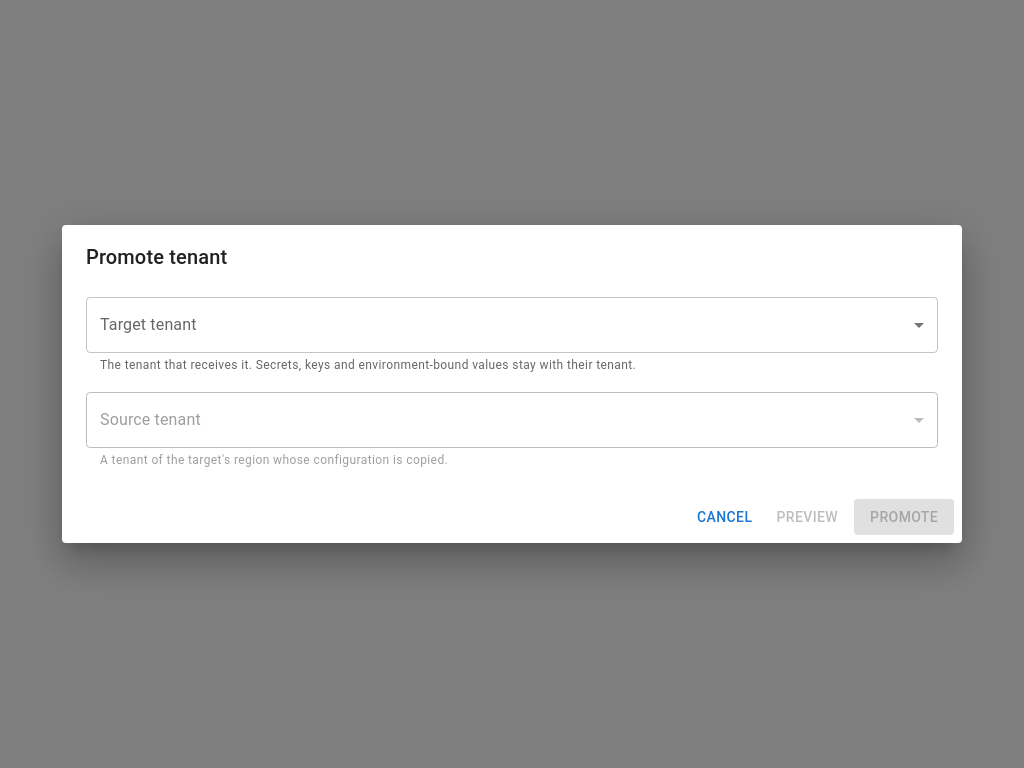
Test: TenantPromotionDialog › offers the other tenants without a cell as sources of a target without one
The image size is (1024, 768).
Replace the text in the field with test id "promotion-target" with "/staging" at (512, 325), box x1=86 y1=297 x2=938 y2=353
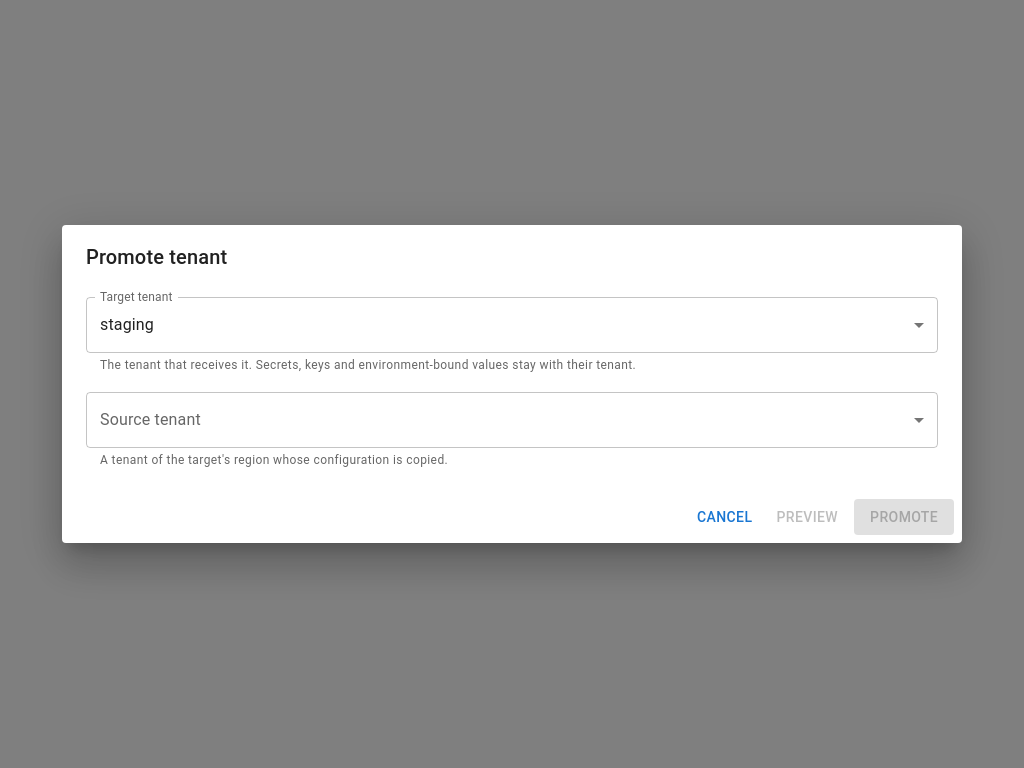
Press the mouse on the dropdown named "source tenant" at (512, 420), box x1=86 y1=392 x2=938 y2=448
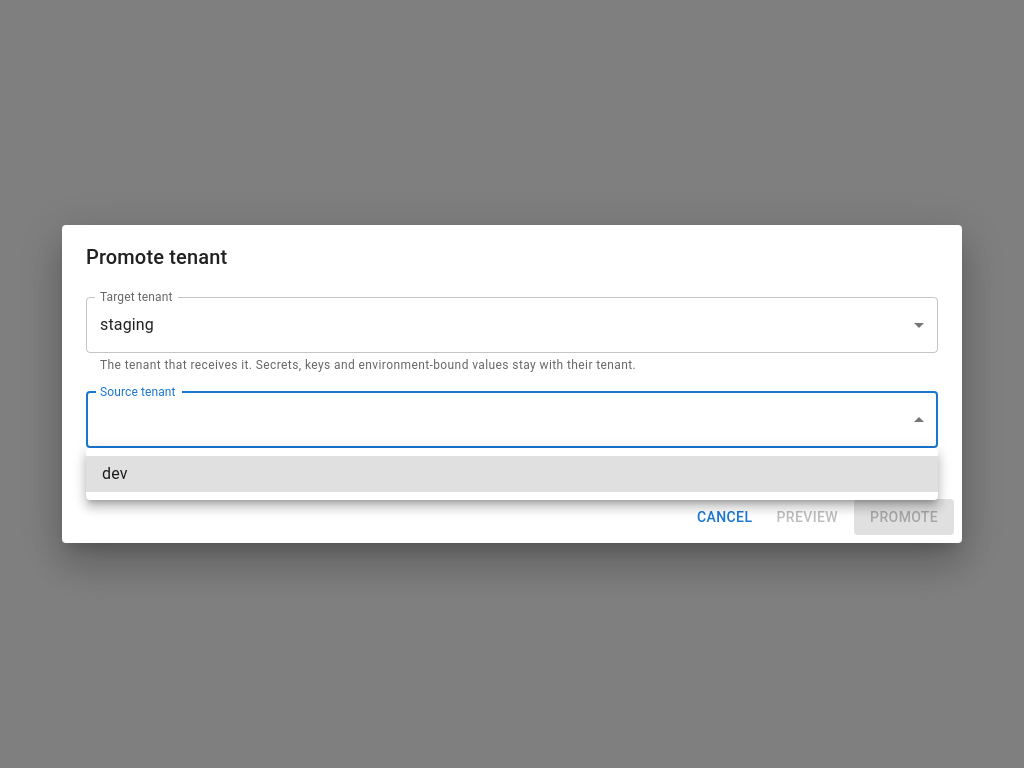
Check: the options read "dev", in this order, box x1=86 y1=456 x2=938 y2=492
